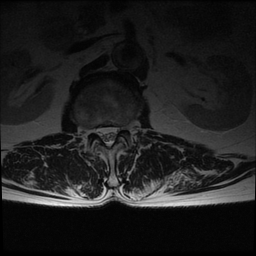CCS_normal: (104, 117, 112, 153)
LFS_stenosis: (120, 118, 128, 139)
LLS_normal: (111, 118, 119, 145)
RFS_stenosis: (87, 121, 95, 140)
RLS_normal: (95, 120, 104, 145)
